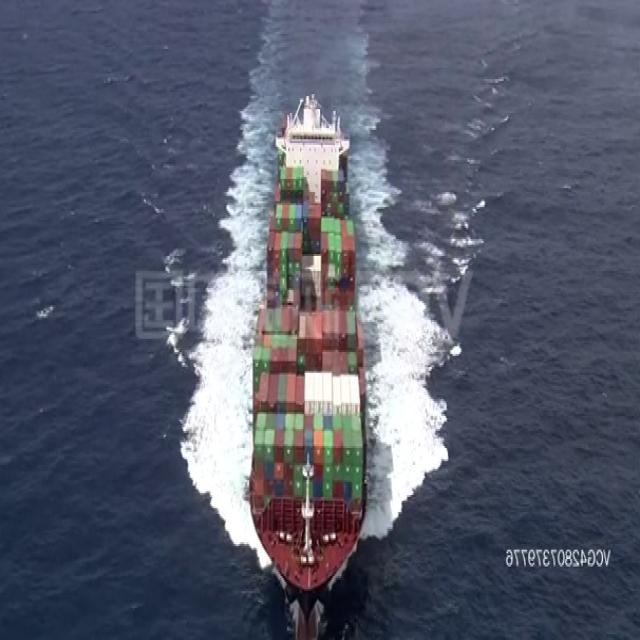cargoship: (239, 92, 368, 609)
